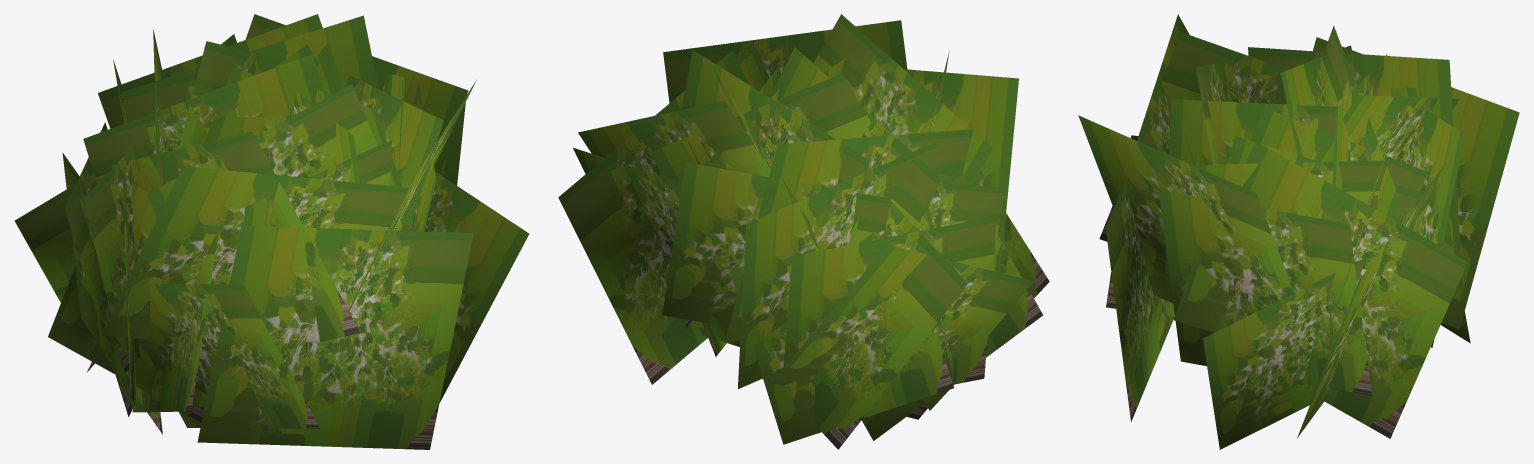
File: bush.glb
The picture shows the model from 3 angles, left to right: view 1: azimuth 30°, elevation 25°; view 2: azimuth 150°, elevation 25°; view 3: azimuth 270°, elevation 25°; orthographic projection. The views are drawn at different scales.
Visible parts, largest first — view 1: bush; view 2: bush; view 3: bush.
Boxes of the visible parts, <box> form: bush: <box>14,14,529,449</box>; bush: <box>558,14,1049,449</box>; bush: <box>1078,14,1519,449</box>.
Bounding box in the file's own units: 2.46 × 1.98 × 2.26.
1 material, 1 textured.
